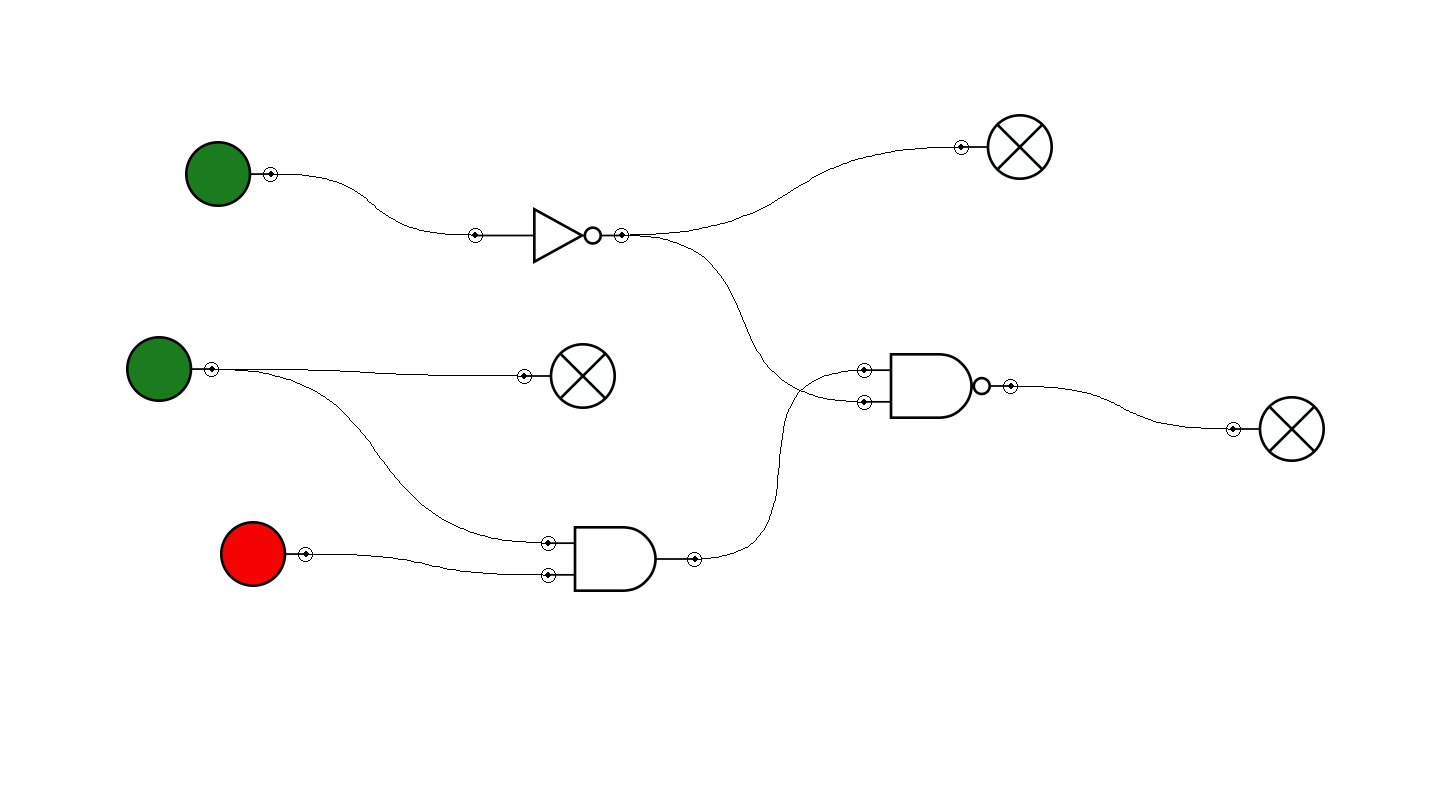and: (541, 526, 702, 592)
bulb: (954, 114, 1053, 180), (1226, 396, 1325, 462), (517, 343, 616, 409)
nand: (857, 353, 1018, 419)
not: (468, 207, 629, 264)
switch_False: (220, 521, 313, 587)
switch_True: (185, 141, 278, 207), (126, 336, 219, 402)
